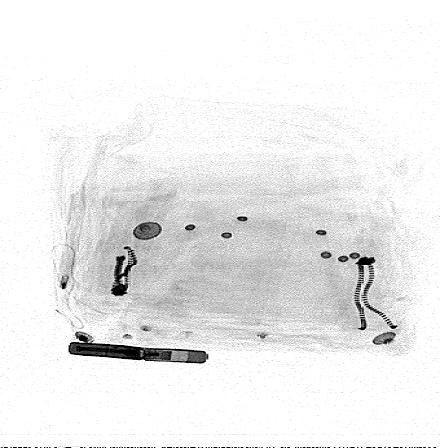Lighter: (66, 341, 210, 364)
